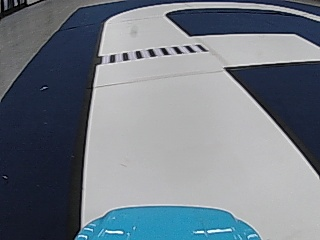CrossWalk: (102, 42, 209, 63)
